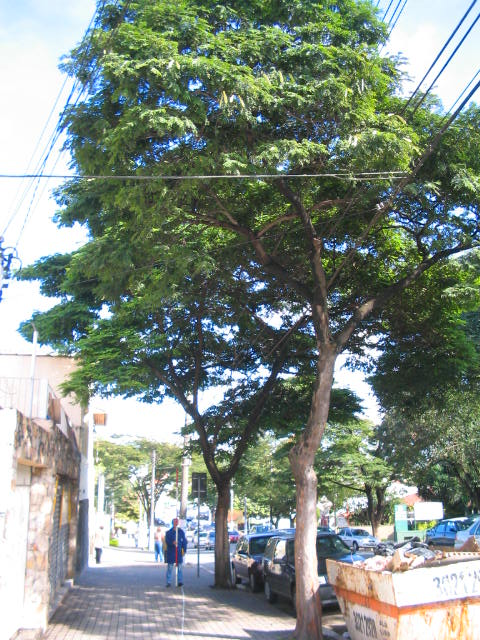crown: (18, 238, 293, 418)
stem: (204, 476, 240, 588)
stick: (167, 467, 182, 589)
tree: (16, 235, 295, 591)
